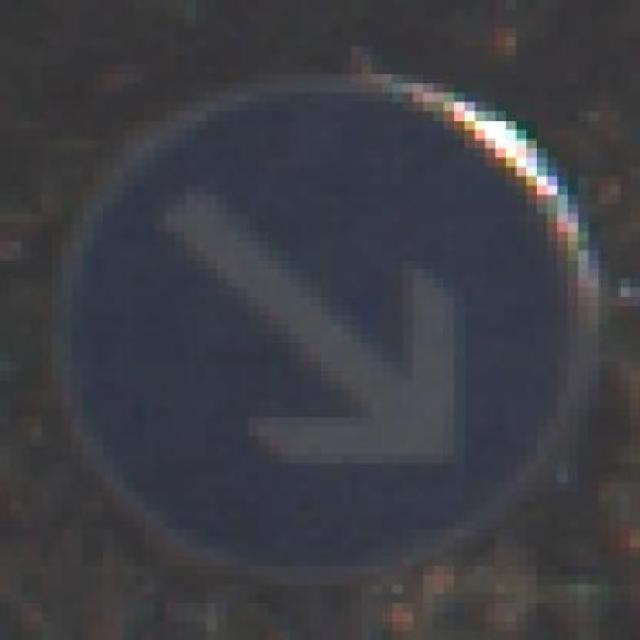Keep-Right: (52, 37, 619, 621)
